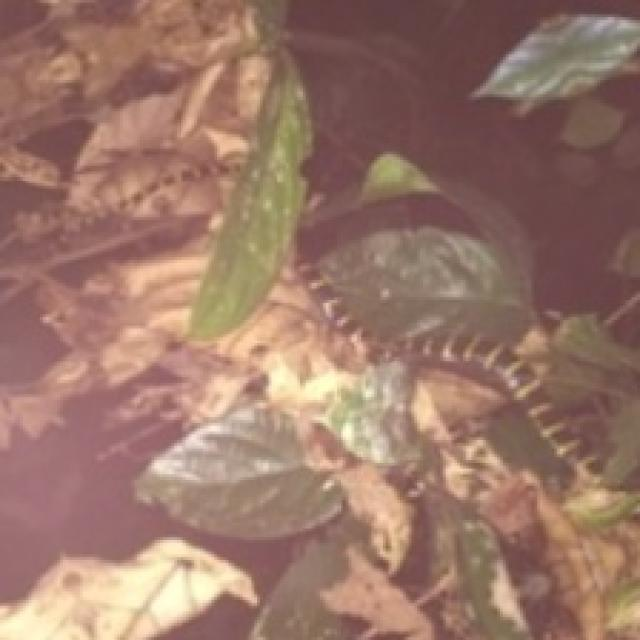mangrove cat snake: (296, 266, 602, 484)
